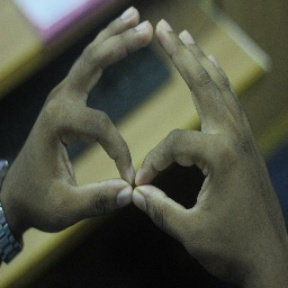B: (34, 99, 226, 242)
